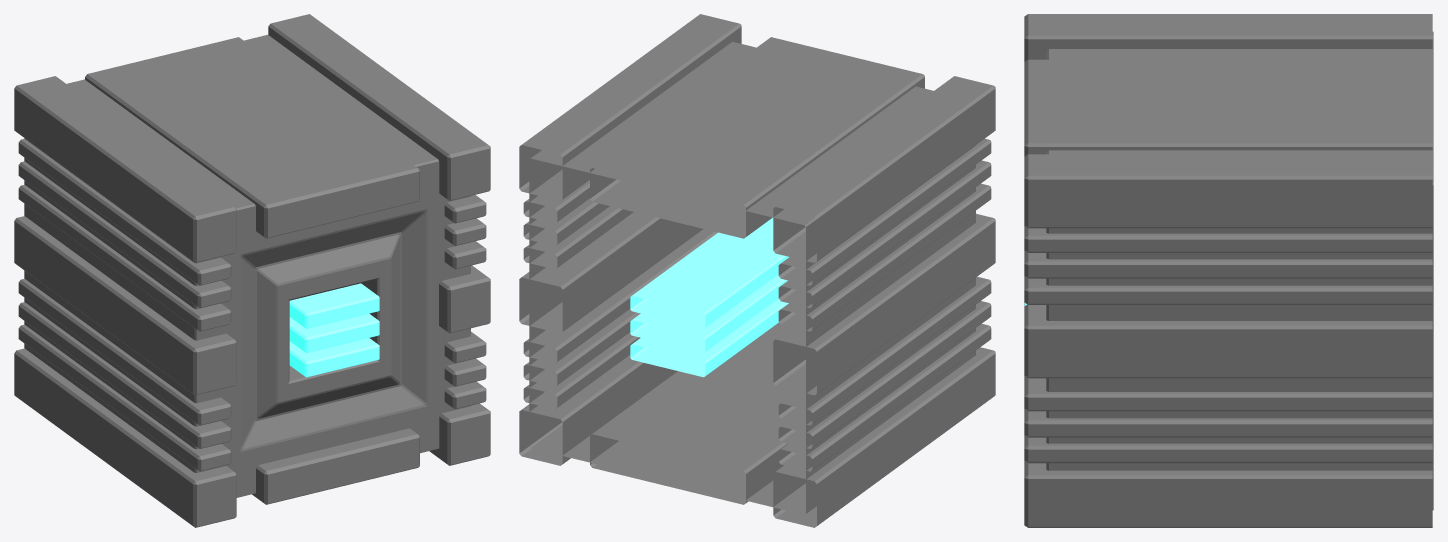
The model's file is Block2.fbx.
3 renders of one model, left to right at view 1: azimuth 30°, elevation 25°; view 2: azimuth 150°, elevation 25°; view 3: azimuth 270°, elevation 25°, orthographic. The views are drawn at different scales.
Visible parts, largest first — view 1: polySurface6; view 2: polySurface6; view 3: polySurface6.
Boxes of the visible parts, x1=… form: polySurface6: x1=14, y1=14, x2=490, y2=527; polySurface6: x1=519, y1=14, x2=995, y2=527; polySurface6: x1=1024, y1=14, x2=1433, y2=527.
Bounding box in the file's own units: 100 × 100 × 105.
